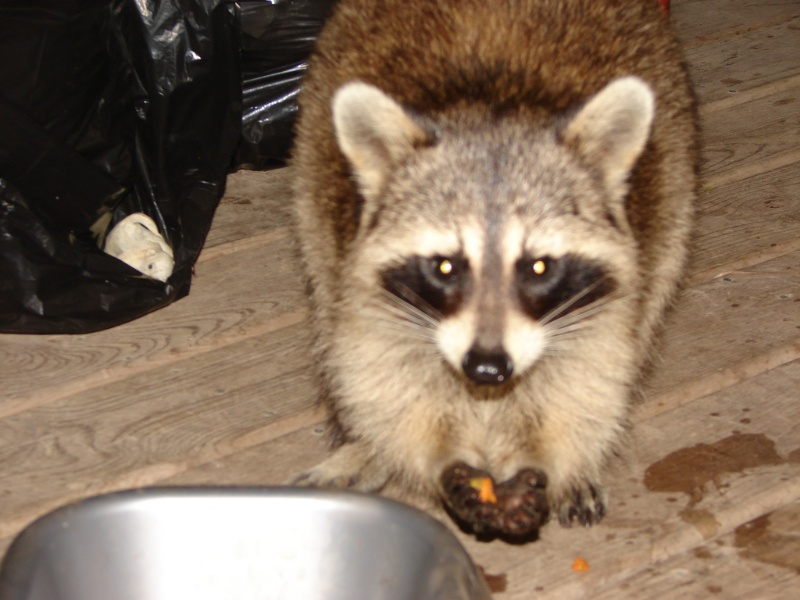raccoon: (286, 1, 703, 546)
